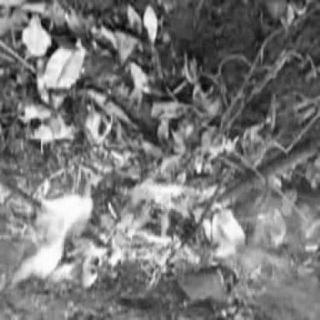Fire: (0, 126, 261, 320)
